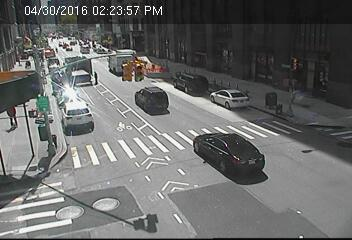neg: (202, 131, 223, 158), (119, 61, 137, 84), (42, 129, 58, 149), (271, 94, 286, 113), (69, 111, 83, 129), (207, 73, 220, 90), (147, 59, 156, 72)
pos: (90, 69, 102, 86)
